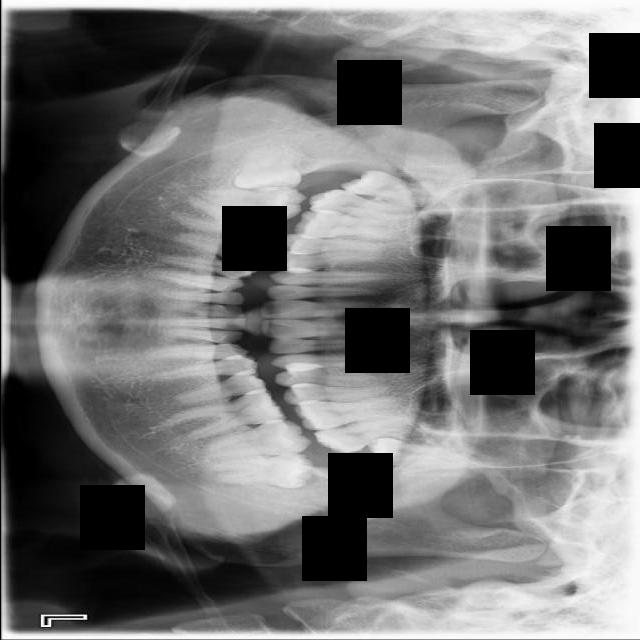3M ESPE Implant: (338, 165, 447, 210)
73: (25, 618, 33, 627)
BioHorizons Implant: (312, 414, 413, 460)
BioLife Implant: (364, 437, 462, 468)
Biomet 3i Implant: (208, 446, 314, 491)
Blue Sky Bio Implant: (200, 418, 312, 461)
Caries: (308, 186, 426, 225)
Implant: (200, 187, 306, 220)
Keystone Dental Implant: (230, 142, 304, 196)
